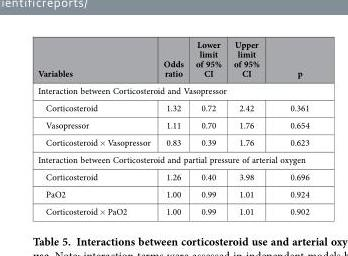table: (37, 37, 308, 217)
table column: (37, 37, 156, 217), (226, 37, 274, 217), (188, 37, 226, 217), (274, 37, 308, 217), (156, 37, 188, 217)
table column header: (37, 37, 308, 81)
table projected row header: (37, 81, 308, 98), (37, 150, 308, 167)
table row: (37, 37, 308, 81), (37, 98, 308, 116), (37, 167, 308, 185), (37, 81, 308, 98), (37, 116, 308, 133), (37, 133, 308, 150), (37, 150, 308, 167), (37, 185, 308, 202), (37, 202, 308, 217)
